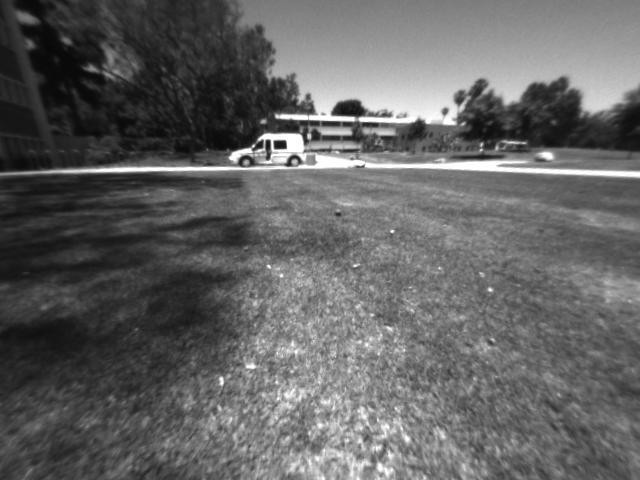dogtoy: (329, 201, 352, 222)
